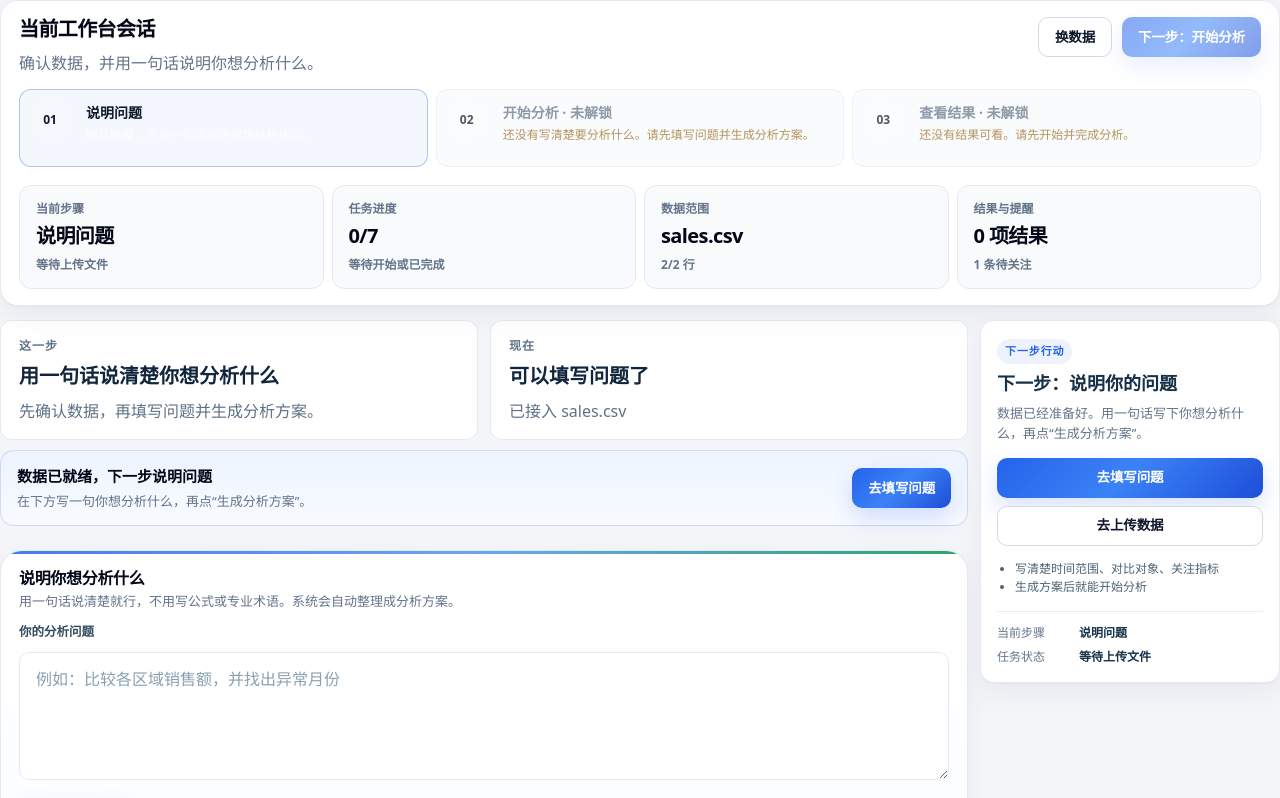
workspace intent parsing › shows server-derived analysis intent for an attached dataset
In the text box labelled "你的分析问题": (484, 716) x1=19 y1=652 x2=949 y2=780, type "分析销售趋势"
(page scrolled)
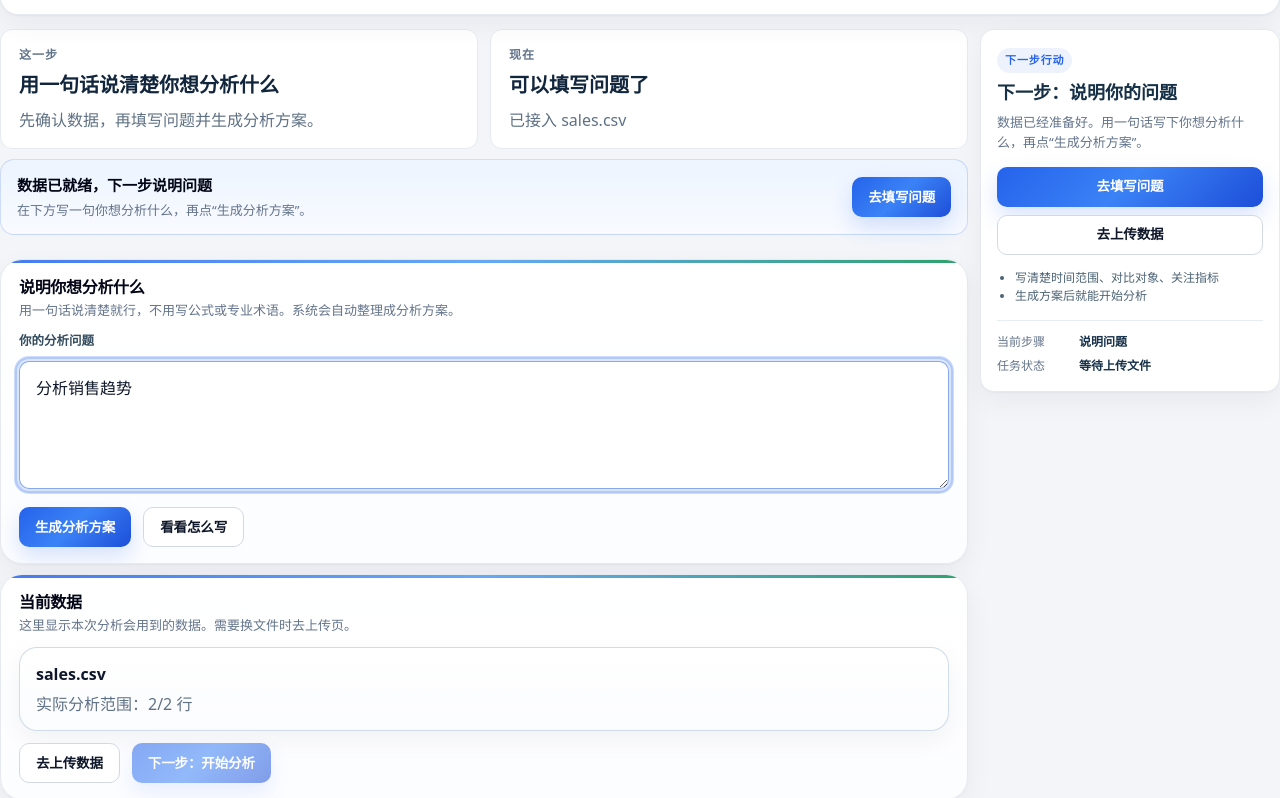
Click the button "生成分析方案": (75, 527) x1=19 y1=507 x2=131 y2=547
(page scrolled)
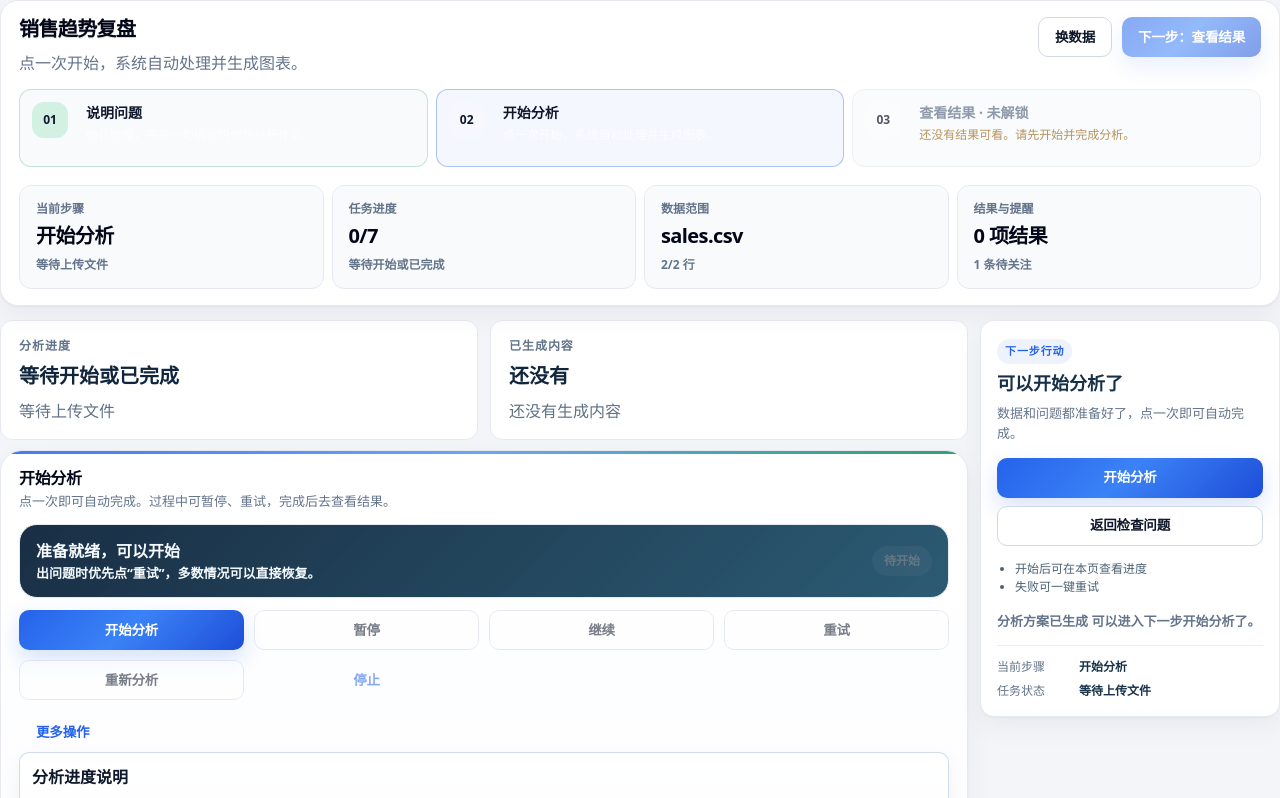
Check: the 1st text "开始分析" is shown, box x1=503 y1=103 x2=559 y2=122
Check: the heading "销售趋势复盘" is shown, box x1=19 y1=15 x2=135 y2=42
